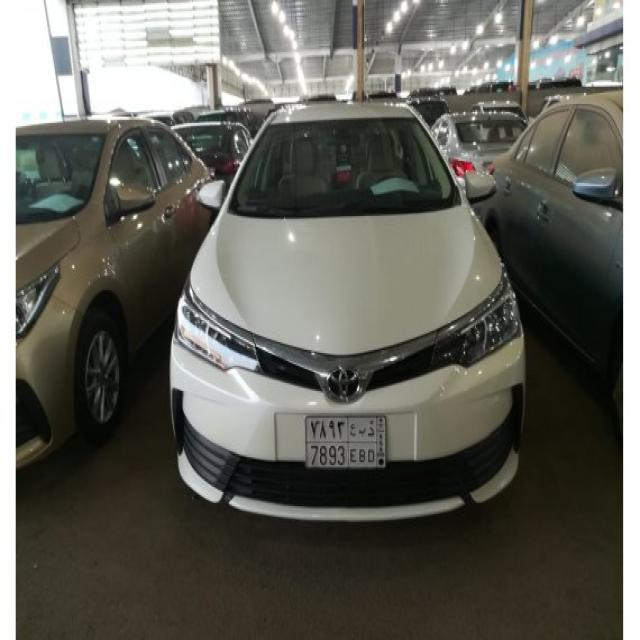license_plate: (303, 413, 389, 473)
